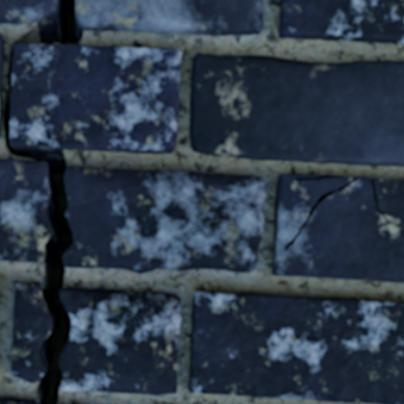brick: (190, 292, 403, 403), (191, 54, 403, 165), (11, 45, 180, 153), (273, 174, 403, 282), (280, 0, 403, 43), (0, 34, 3, 134)
broken_brick: (65, 165, 268, 274), (61, 288, 181, 396), (78, 0, 263, 36), (0, 159, 51, 264), (10, 283, 50, 384), (0, 0, 56, 25), (0, 397, 37, 403)
crack: (2, 0, 84, 403), (284, 177, 360, 252), (371, 178, 391, 226), (292, 175, 342, 182)
